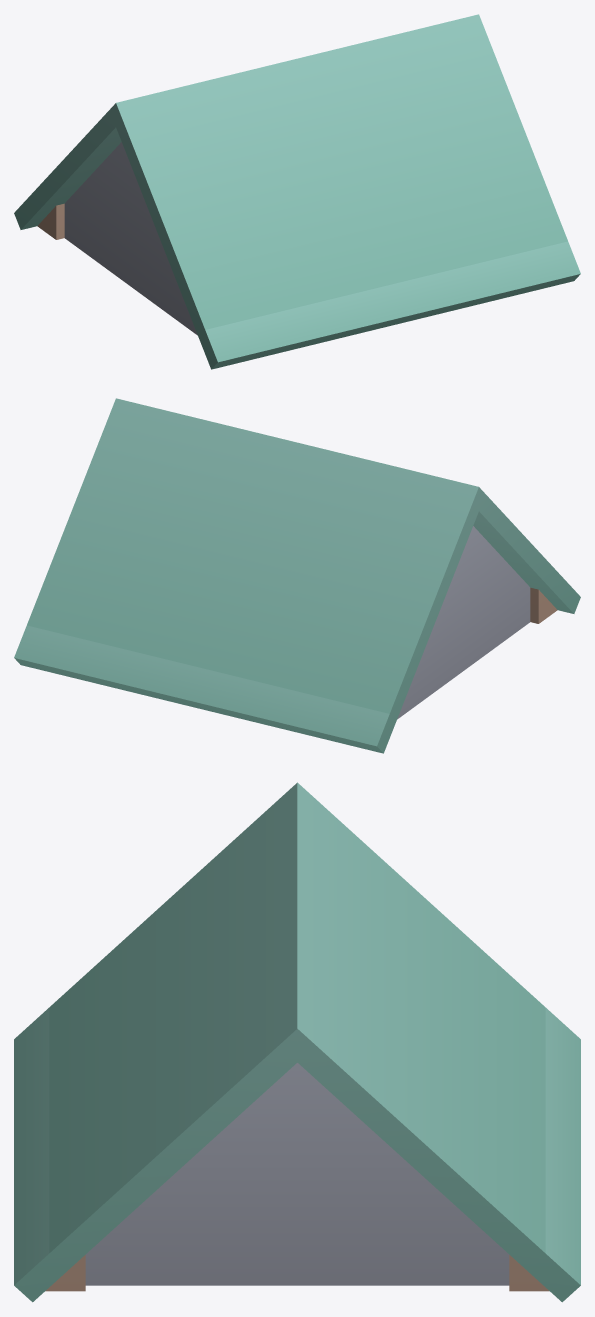
The model's file is roof-gable.glb.
3 views of the same model, one above another, from view 1: azimuth 30°, elevation 25°; view 2: azimuth 150°, elevation 25°; view 3: azimuth 270°, elevation 25° (orthographic). The views are drawn at different scales.
Parts seen in each view (by area): view 1: roof-gable; view 2: roof-gable; view 3: roof-gable.
Boxes of the visible parts, x1,y1,x2,y2 form: roof-gable: (14,14,580,369); roof-gable: (14,398,580,753); roof-gable: (14,782,580,1302).
Size of the model in its own units: 1.1 by 0.5707 by 1.07.
